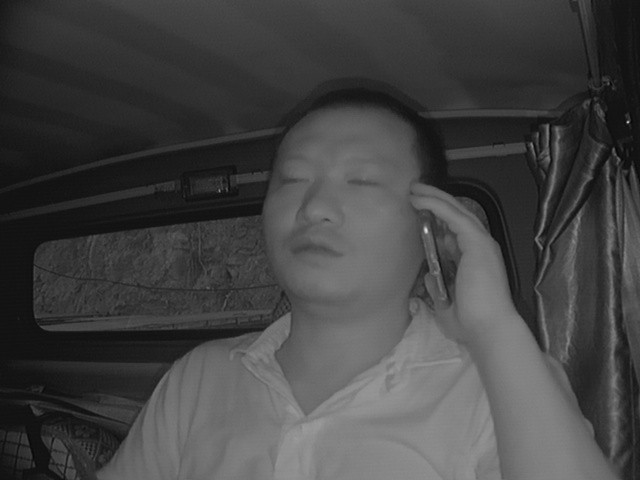hand: (401, 181, 503, 326)
